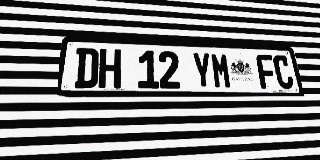1: (138, 50, 159, 88)
2: (158, 51, 180, 88)
C: (272, 55, 295, 89)
D: (74, 48, 99, 88)
F: (255, 54, 278, 89)
H: (98, 49, 121, 88)
M: (210, 53, 232, 89)
Y: (191, 52, 213, 89)
